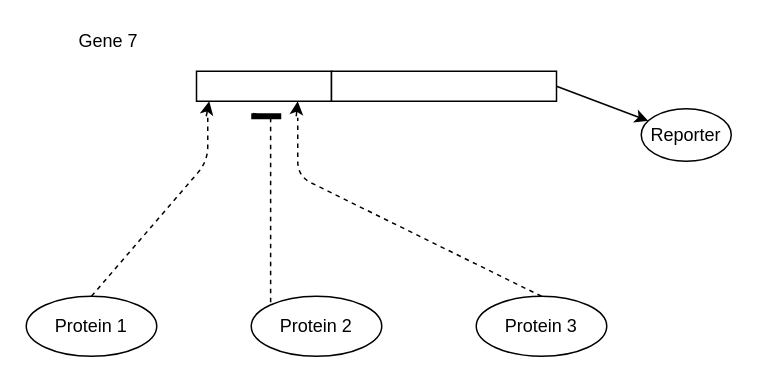
The diagram is 758 pixels wide and 383 high, and some of its shapes have lost their labels. The centre of each missing label's shape, as x and y in pixels:
"Promoter" goes at [263,85].
"reporter coding region" goes at [443,85].
